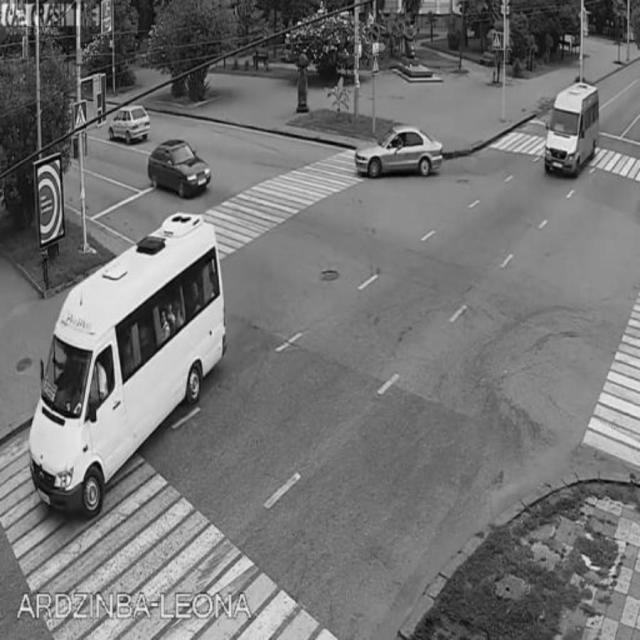vehicle: (34, 212, 226, 498), (540, 78, 606, 179), (354, 127, 445, 181), (149, 135, 207, 201), (109, 94, 156, 150)
